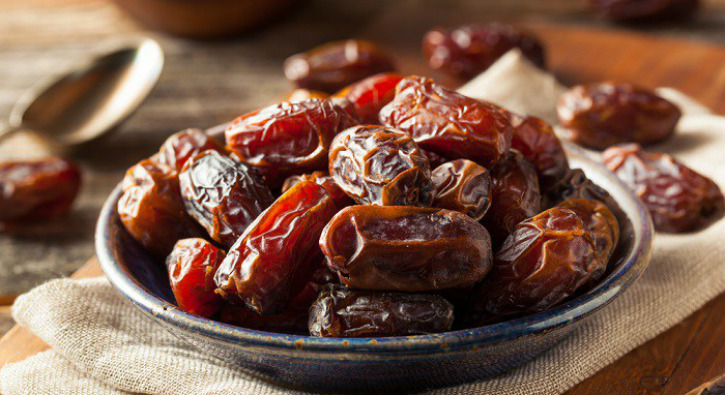hurmaa: (315, 198, 499, 290)
